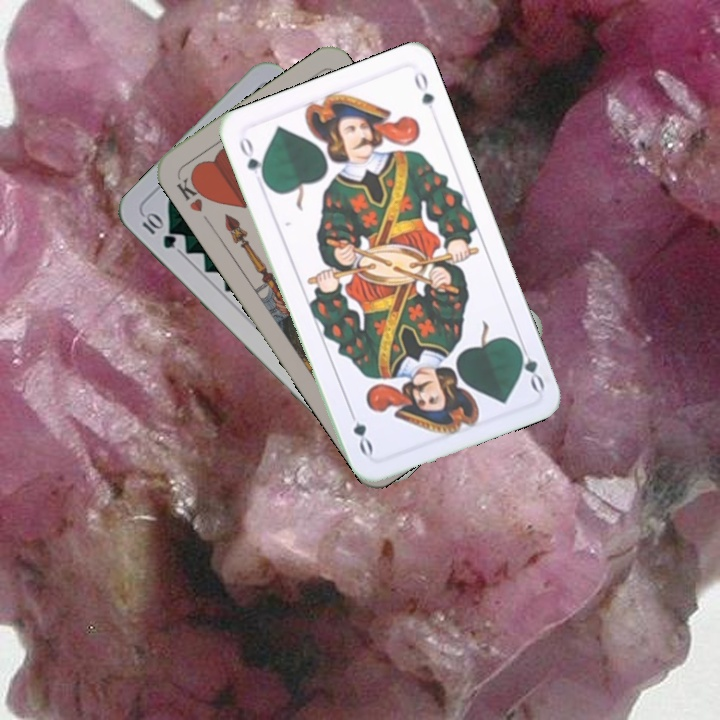G10: (138, 209, 179, 252)
GO: (511, 336, 548, 394), (235, 133, 270, 187)
HK: (172, 170, 211, 215)
